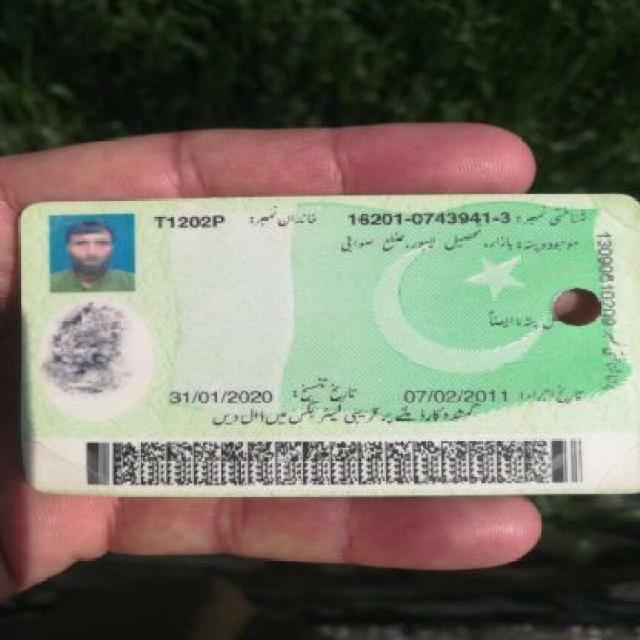Back: (9, 190, 638, 498)
